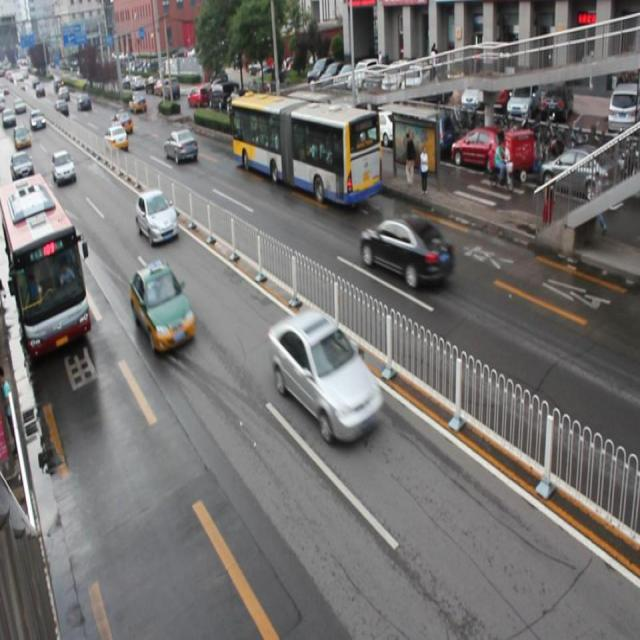car: (269, 310, 380, 441), (358, 210, 454, 288), (130, 262, 195, 352), (135, 188, 178, 245), (164, 130, 198, 164), (52, 150, 77, 185), (106, 124, 128, 150)
van: (229, 90, 381, 206), (1, 176, 92, 359)
